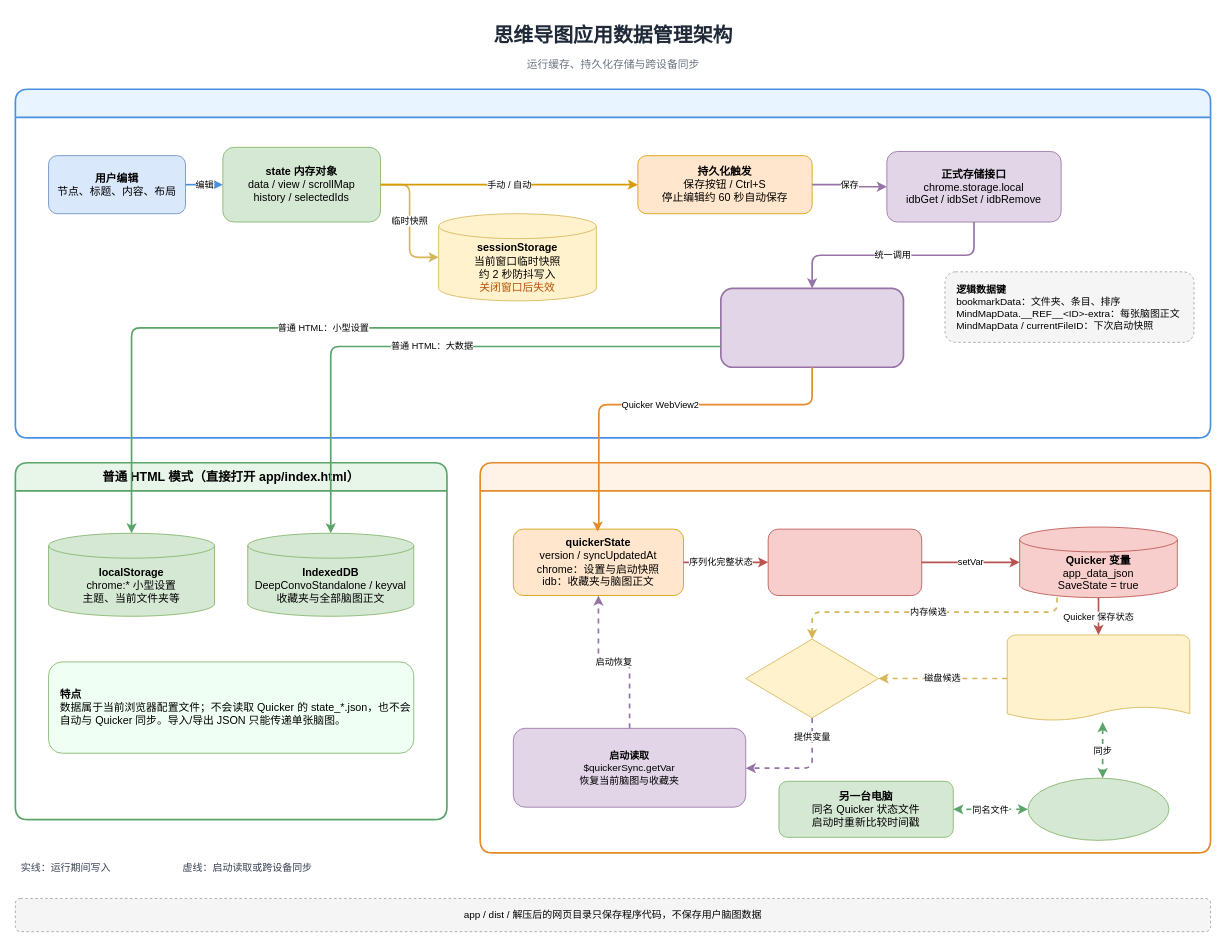
Image size: 1225x946. Some labels were removed from this diagram. Each missing label, with the box of its shape:
Quicker SaveState 由用户自己的动作管理 网页不直接访问状态文件: (1006, 634, 1190, 722)
Quicker 原生桥 $quickerSync getVar / setVar: (767, 528, 922, 596)
Quicker 模式（WebView2 + 动作状态）: (479, 461, 1211, 853)
standalone-shim.js Chrome 插件接口兼容层 决定实际存储后端: (720, 287, 904, 368)
动作启动 载入 SaveState 提供给 WebView2: (745, 638, 879, 718)
坚果云同步 同步 state_*.json: (1027, 777, 1169, 840)
应用运行态（app/HTML/MindMap.html）: (14, 88, 1211, 438)
